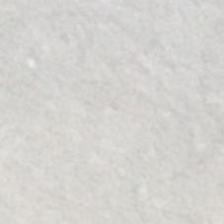Non_Crack: (25, 21, 195, 172)
